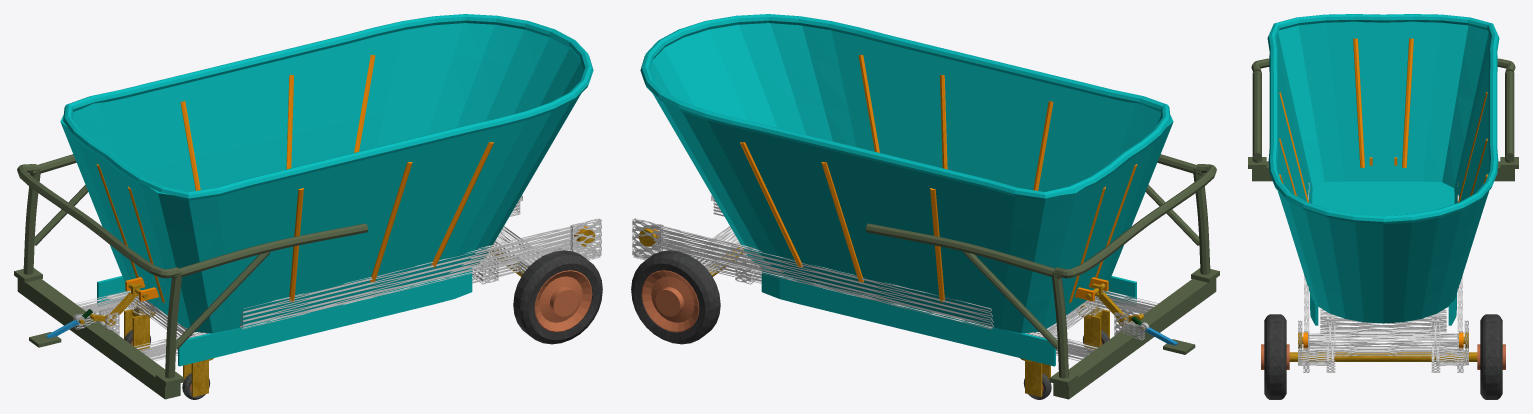
File: Urban_Environment_Tilt_Truck2__0313.glb
3 views of the same model, side by side, from view 1: azimuth 30°, elevation 25°; view 2: azimuth 150°, elevation 25°; view 3: azimuth 270°, elevation 25° (orthographic). The views are drawn at different scales.
Parts seen in each view (by area): view 1: hopper::hopper_form__u_nose_scoop__tub_shell, hopper::hopper_form__u_nose_scoop__rim_lip, hopper::hopper_form__u_nose_scoop__underbody_apron_1, hopper::trunnion_channel_1, chassis::rear_outrigger_beam, main_wheel_1::main_wheel_1_tire, main_wheel_1::main_wheel_1_rim, push_handle::push_handle__side_rails__rear_tie, push_handle::push_handle__side_rails__grab_rail_1, chassis::chassis__molded_underbody__subframe_rail_1, push_handle::push_handle__side_rails__post_1, push_handle::push_handle__side_rails__brace_1 (+15 smaller); view 2: hopper::hopper_form__u_nose_scoop__tub_shell, hopper::hopper_form__u_nose_scoop__rim_lip, hopper::hopper_form__u_nose_scoop__underbody_apron_0, hopper::trunnion_channel_0, chassis::rear_outrigger_beam, main_wheel_0::main_wheel_0_tire, main_wheel_0::main_wheel_0_rim, push_handle::push_handle__side_rails__rear_tie, push_handle::push_handle__side_rails__grab_rail_0, chassis::chassis__molded_underbody__subframe_rail_0, push_handle::push_handle__side_rails__post_0, push_handle::push_handle__side_rails__brace_0 (+15 smaller); view 3: hopper::hopper_form__u_nose_scoop__tub_shell, hopper::hopper_form__u_nose_scoop__rim_lip, chassis::chassis__molded_underbody__axle_cradle, main_wheel_0::main_wheel_0_tire, main_wheel_1::main_wheel_1_tire, chassis::chassis__molded_underbody__deck_bearer_1, chassis::main_axle, push_handle::push_handle__side_rails__grab_rail_0, push_handle::push_handle__side_rails__grab_rail_1, hopper::hopper_form__u_nose_scoop__rear_rib_0, hopper::hopper_form__u_nose_scoop__rear_rib_1, chassis::rear_outrigger_beam (+9 smaller).
Part boxes in pixels (x1,y1,x2,y2): hopper::hopper_form__u_nose_scoop__tub_shell: [60, 23, 583, 333]; hopper::hopper_form__u_nose_scoop__rim_lip: [63, 14, 593, 200]; hopper::hopper_form__u_nose_scoop__underbody_apron_1: [178, 268, 472, 366]; hopper::trunnion_channel_1: [240, 224, 581, 329]; chassis::rear_outrigger_beam: [17, 278, 180, 399]; main_wheel_1::main_wheel_1_tire: [513, 250, 602, 344]; main_wheel_1::main_wheel_1_rim: [534, 270, 592, 332]; push_handle::push_handle__side_rails__rear_tie: [17, 164, 179, 278]; push_handle::push_handle__side_rails__grab_rail_1: [172, 223, 368, 279]; chassis::chassis__molded_underbody__subframe_rail_1: [134, 241, 578, 361]; push_handle::push_handle__side_rails__post_1: [165, 272, 181, 378]; push_handle::push_handle__side_rails__brace_1: [176, 252, 270, 349]; hopper::hopper_form__u_nose_scoop__tub_shell: [650, 23, 1173, 333]; hopper::hopper_form__u_nose_scoop__rim_lip: [640, 14, 1170, 200]; hopper::hopper_form__u_nose_scoop__underbody_apron_0: [761, 268, 1055, 366]; hopper::trunnion_channel_0: [650, 223, 993, 329]; chassis::rear_outrigger_beam: [1053, 278, 1216, 399]; main_wheel_0::main_wheel_0_tire: [631, 250, 720, 344]; main_wheel_0::main_wheel_0_rim: [641, 270, 699, 332]; push_handle::push_handle__side_rails__rear_tie: [1054, 164, 1216, 278]; push_handle::push_handle__side_rails__grab_rail_0: [865, 223, 1061, 279]; chassis::chassis__molded_underbody__subframe_rail_0: [655, 240, 1099, 361]; push_handle::push_handle__side_rails__post_0: [1052, 272, 1068, 378]; push_handle::push_handle__side_rails__brace_0: [963, 252, 1057, 349]; hopper::hopper_form__u_nose_scoop__tub_shell: [1276, 21, 1490, 323]; hopper::hopper_form__u_nose_scoop__rim_lip: [1267, 14, 1499, 224]; chassis::chassis__molded_underbody__axle_cradle: [1305, 333, 1461, 356]; main_wheel_0::main_wheel_0_tire: [1480, 314, 1502, 399]; main_wheel_1::main_wheel_1_tire: [1264, 314, 1286, 399]; chassis::chassis__molded_underbody__deck_bearer_1: [1320, 309, 1446, 336]; chassis::main_axle: [1289, 352, 1477, 361]; push_handle::push_handle__side_rails__grab_rail_0: [1505, 70, 1513, 160]; push_handle::push_handle__side_rails__grab_rail_1: [1253, 70, 1261, 160]; hopper::hopper_form__u_nose_scoop__rear_rib_0: [1353, 38, 1364, 167]; hopper::hopper_form__u_nose_scoop__rear_rib_1: [1402, 38, 1413, 167]; chassis::rear_outrigger_beam: [1252, 161, 1514, 181].
Bounding box in the file's own units: 2.07 × 0.8746 × 1.01.
Materials: 11 (9 with a texture image).
